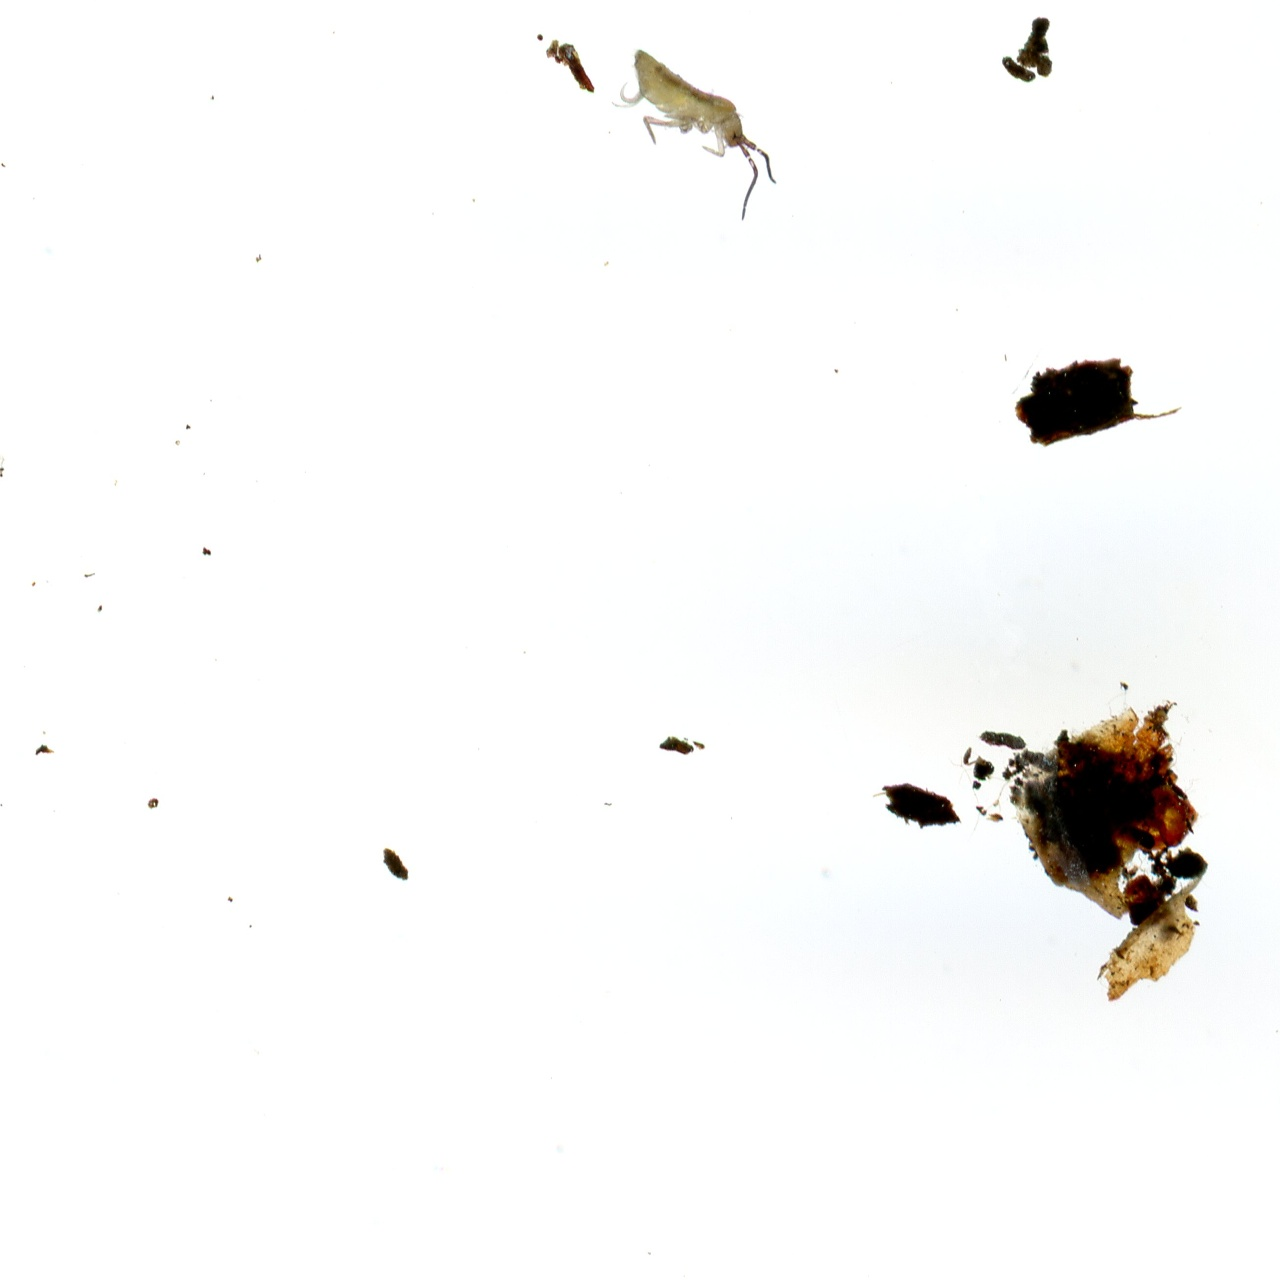arthropod: (584, 27, 808, 230)
